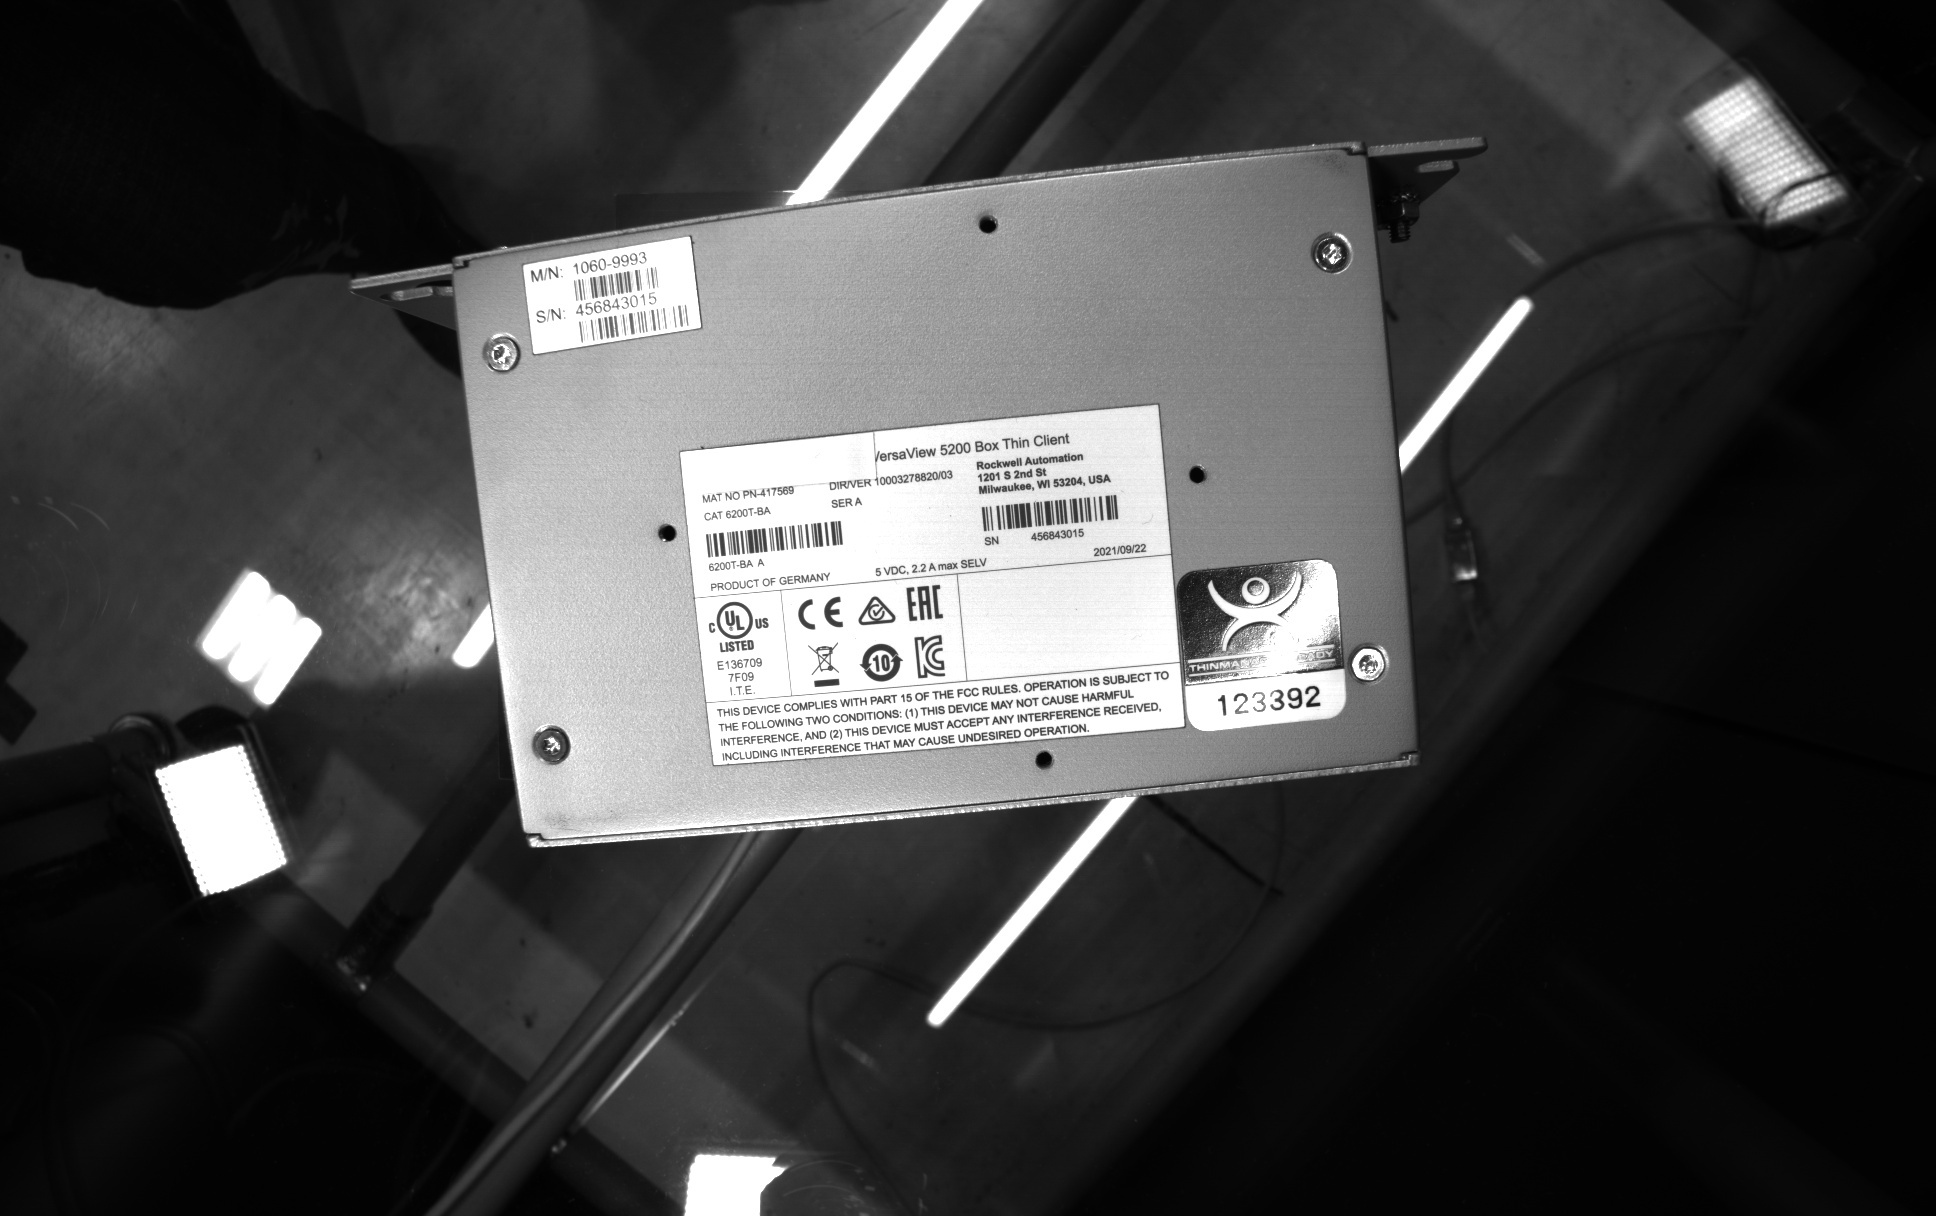Barcode: (699, 516, 850, 565), (975, 488, 1125, 537), (572, 297, 691, 354), (566, 261, 665, 308)
CamTop: (434, 127, 1437, 869)
Label_Seriennummer: (665, 392, 1196, 778)
Loch_Montage: (643, 510, 684, 555), (1018, 744, 1062, 783), (1177, 452, 1216, 495), (967, 207, 1007, 245)
Schraube: (1301, 227, 1357, 280), (525, 714, 576, 771), (1348, 640, 1397, 695), (475, 328, 525, 380)
